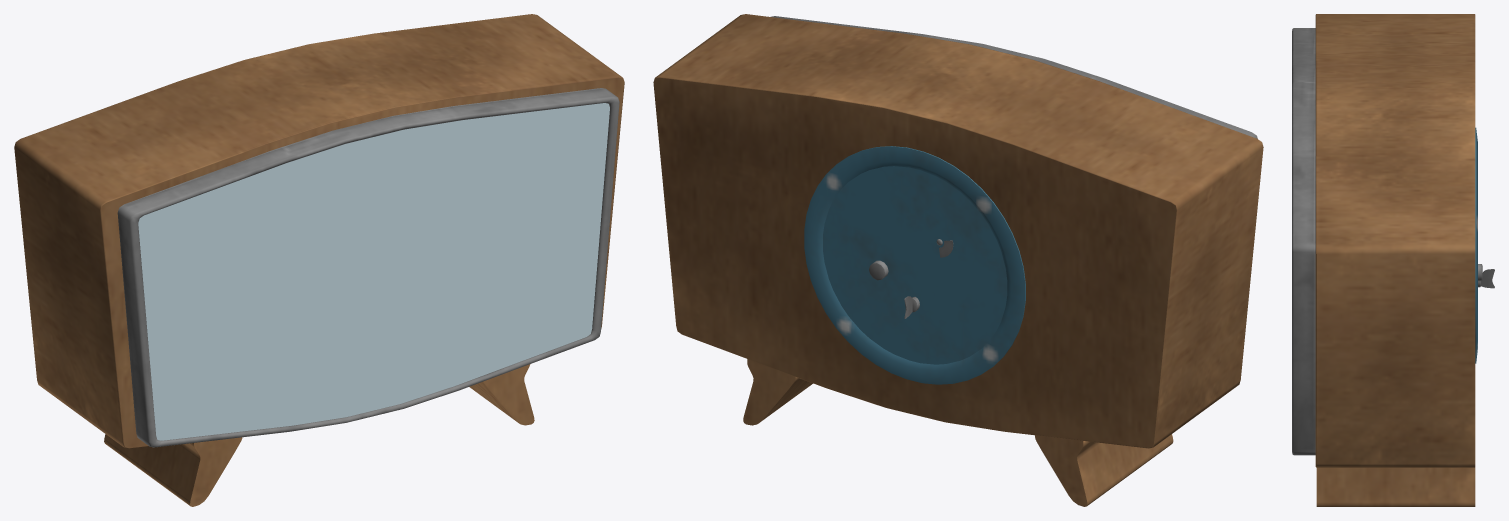
File: Clock.fbx
3 renders of one model, left to right at view 1: azimuth 30°, elevation 25°; view 2: azimuth 150°, elevation 25°; view 3: azimuth 270°, elevation 25°, orthographic. The views are drawn at different scales.
Visible parts, largest first — view 1: Watch_Mayak_Watch_ATOM_0.001, Watch_Mayak; view 2: Watch_Mayak; view 3: Watch_Mayak.
Part boxes in pixels (x1,y1,x2,y2): Watch_Mayak_Watch_ATOM_0.001: (138,103,609,440); Watch_Mayak: (14,14,624,506); Watch_Mayak: (653,14,1263,506); Watch_Mayak: (1292,14,1494,506).
Size of the model in its own units: 690 by 441 by 251.
1 material, 1 textured.
